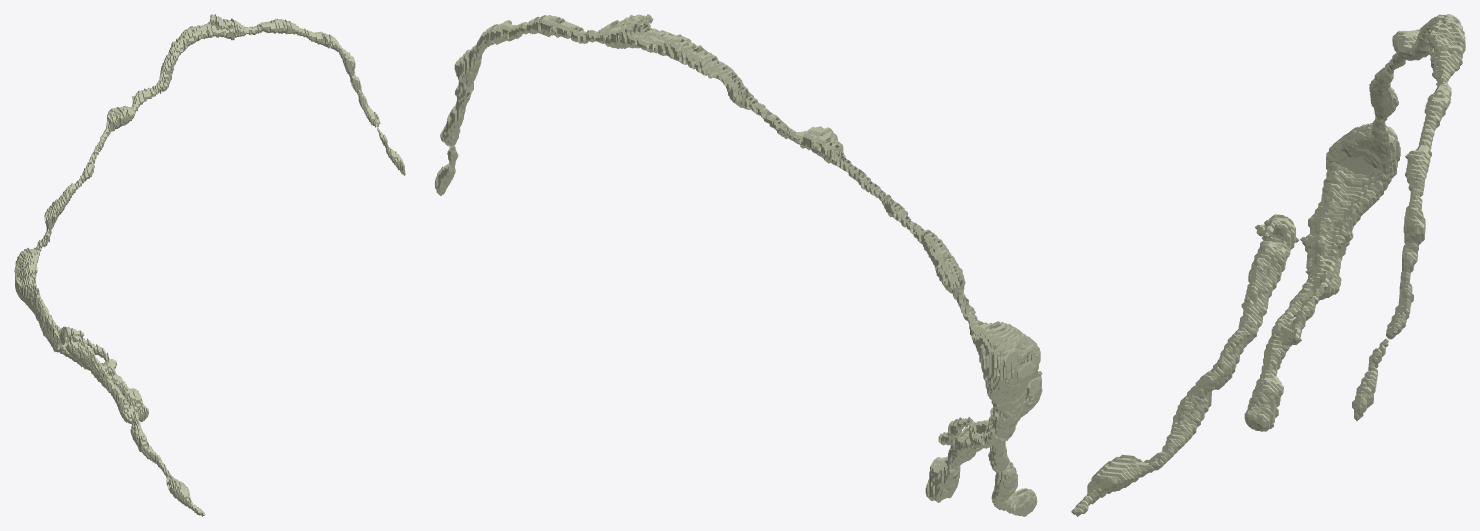
File: SVV_BAGR.gltf
3 views of the same model, side by side, from view 1: azimuth 30°, elevation 25°; view 2: azimuth 150°, elevation 25°; view 3: azimuth 270°, elevation 25° (orthographic). The views are drawn at different scales.
Parts seen in each view (by area): view 1: BAGR; view 2: BAGR; view 3: BAGR.
Boxes of the visible parts, left/top/right/bottom form: BAGR: left=14, top=14, right=405, bottom=516; BAGR: left=434, top=14, right=1042, bottom=516; BAGR: left=1071, top=14, right=1465, bottom=516.
Size of the model in its own units: 149708 by 140492 by 84764.
